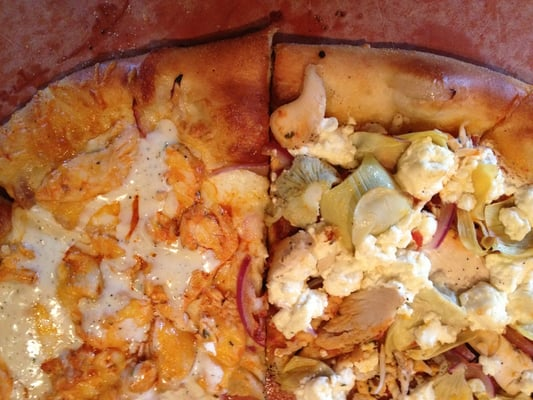sandwich: (1, 17, 532, 399)
